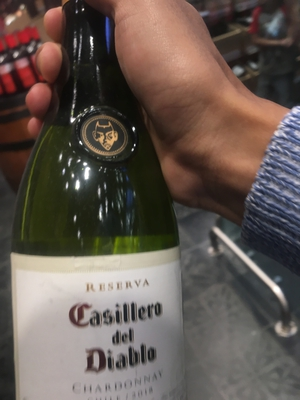casillero del diablo chardonnay: (13, 24, 192, 396)
